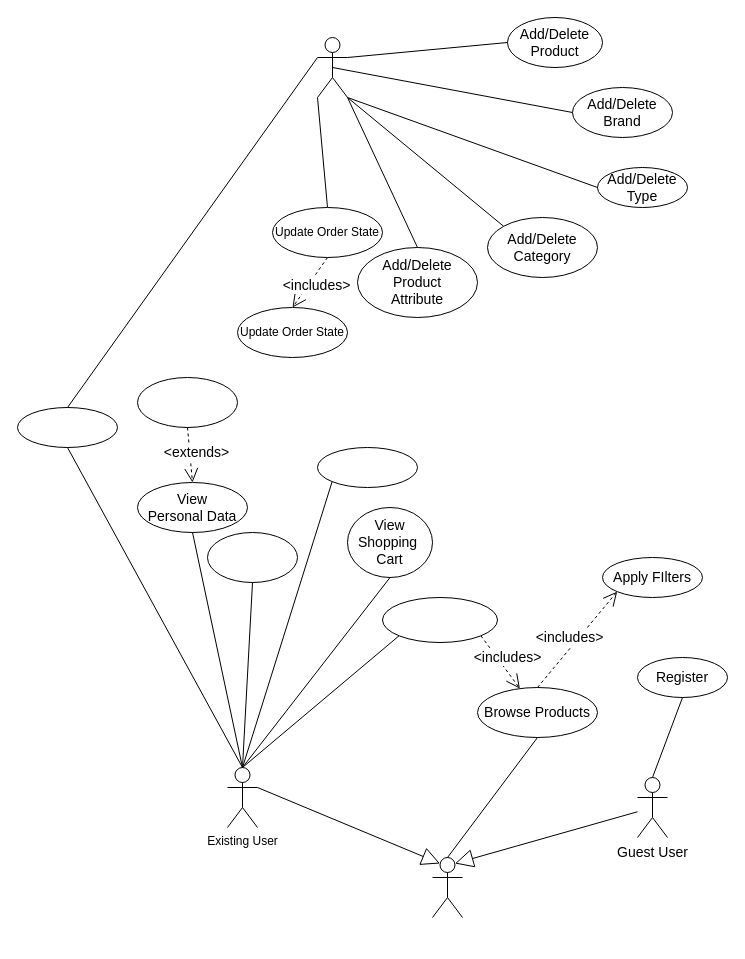
This 745x959 diagram has some shape labels left out. The shapes that lost their labels are listed below. From the top down, each one's centre as x and y in pixels, then its label:
At (332,67): "Admin".
At (187,402): "Edit pesonal data".
At (67,427): "Login".
At (367,467): "View Orders".
At (252,557): "Place Order".
At (440,619): "Add To Shopping Cart".
At (447,887): "Customer".
